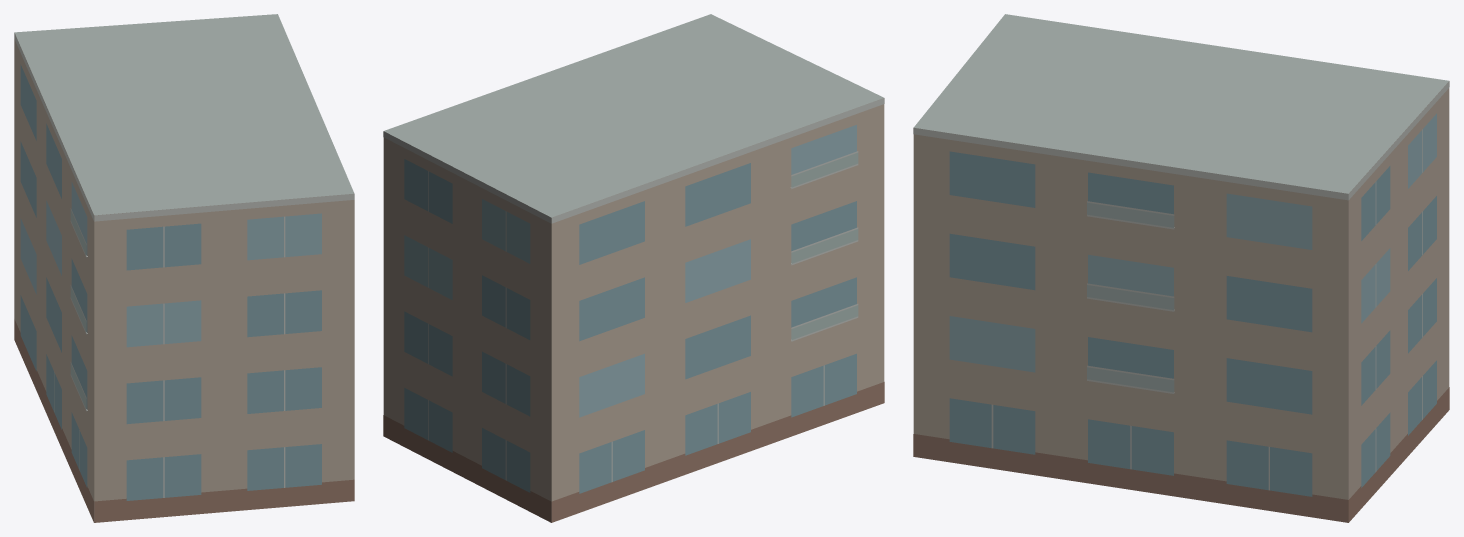
Rendered from survey-upis-32957051.glb.
3 views of the same model, side by side, from view 1: azimuth 30°, elevation 25°; view 2: azimuth 150°, elevation 25°; view 3: azimuth 270°, elevation 25° (orthographic). The views are drawn at different scales.
Parts seen in each view (by area): view 1: survey-upis-32957051.tmp; view 2: survey-upis-32957051.tmp; view 3: survey-upis-32957051.tmp.
Part boxes in pixels (x1=…): survey-upis-32957051.tmp: x1=14, y1=14, x2=354, y2=522; survey-upis-32957051.tmp: x1=383, y1=14, x2=884, y2=522; survey-upis-32957051.tmp: x1=913, y1=14, x2=1449, y2=522.
Size of the model in its own units: 14.3 by 12.2 by 18.02.
